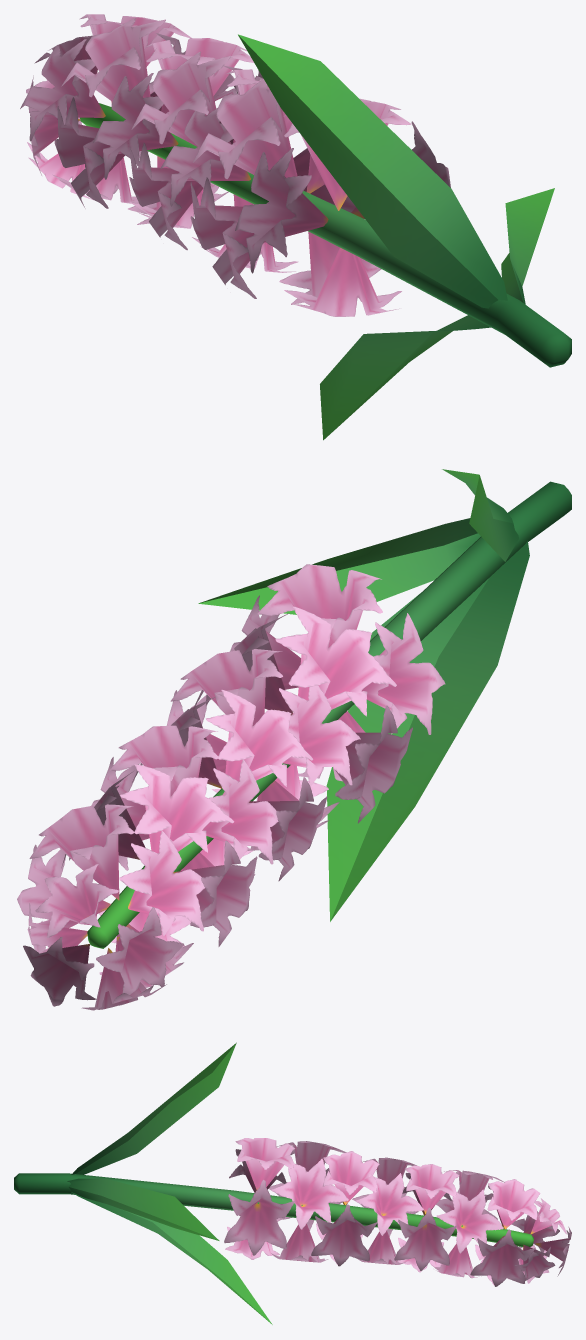
File: SM_Hyacinth_PastellPink_Small.fbx
3 renders of one model, top to bottom at view 1: azimuth 30°, elevation 25°; view 2: azimuth 150°, elevation 25°; view 3: azimuth 270°, elevation 25°, orthographic. The views are drawn at different scales.
Parts seen in each view (by area): view 1: Hyacinth_PastellPink_Small; view 2: Hyacinth_PastellPink_Small; view 3: Hyacinth_PastellPink_Small.
Part boxes in pixels (x1,y1,x2,y2): Hyacinth_PastellPink_Small: [20, 14, 571, 440]; Hyacinth_PastellPink_Small: [17, 469, 571, 1010]; Hyacinth_PastellPink_Small: [14, 1042, 571, 1324].
Size of the model in its own units: 47.52 by 69.08 by 139.
